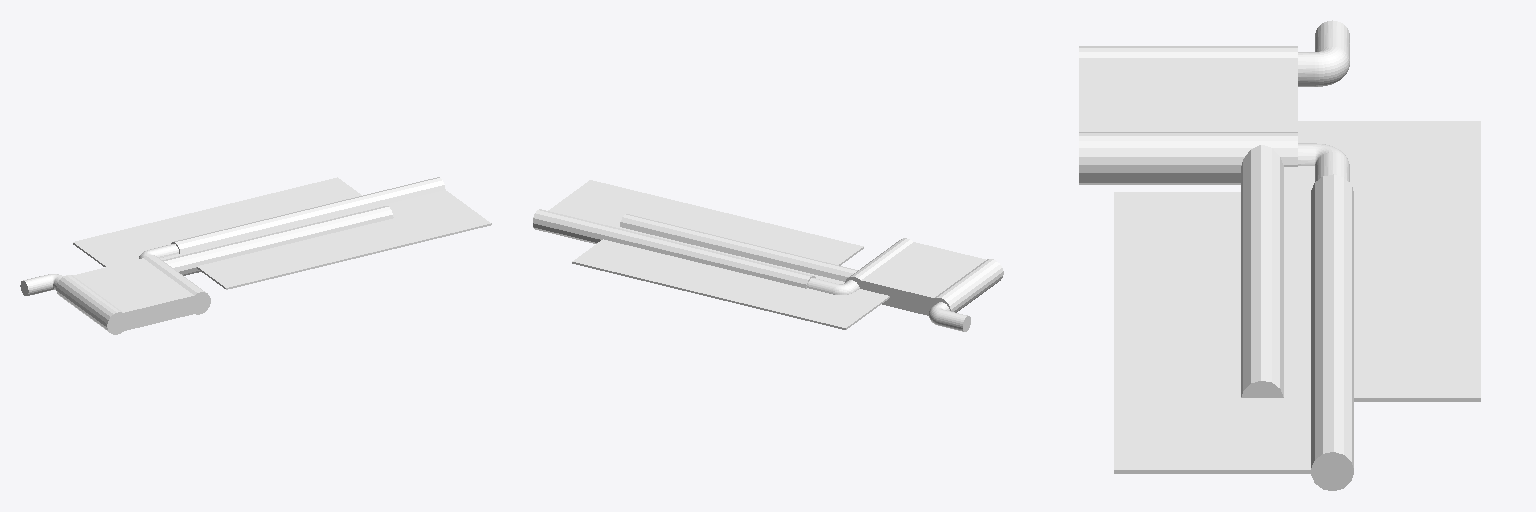
robot.urdf — URDF_Bodies.2:
<?xml version="1.0" encoding="utf-8"?>
<!-- This URDF was automatically created by SolidWorks to URDF Exporter! Originally created by [author] ([email redacted]) 
     Commit Version: 1.6.0-4-g7f85cfe  Build Version: 1.6.7995.38578
     For more information, please see http://wiki.ros.org/sw_urdf_exporter -->
<robot
  name="URDF_Bodies.2">
  <link
    name="base_link">
    <inertial>
      <origin
        xyz="1.28701571668501E-17 -0.125 1.11232366633435E-17"
        rpy="0 0 0" />
      <mass
        value="3.75126000883085" />
      <inertia
        ixx="0.0203613705094794"
        ixy="0"
        ixz="0"
        iyy="0.0270935390886525"
        iyz="1.14587975343948E-18"
        izz="0.0458077936711611" />
    </inertial>
    <visual>
      <origin
        xyz="0 0 0"
        rpy="0 0 0" />
      <geometry>
        <mesh
          filename="package://URDF_Bodies.2/meshes/base_link.STL" />
      </geometry>
      <material
        name="">
        <color
          rgba="1 1 1 1" />
      </material>
    </visual>
    <collision>
      <origin
        xyz="0 0 0"
        rpy="0 0 0" />
      <geometry>
        <mesh
          filename="package://URDF_Bodies.2/meshes/base_link.STL" />
      </geometry>
    </collision>
  </link>
  <link
    name="RW_Flap">
    <inertial>
      <origin
        xyz="0.156057597241795 0.034001458033575 -2.95203009004169E-18"
        rpy="0 0 0" />
      <mass
        value="0.155627268196262" />
      <inertia
        ixx="4.74272194335383E-05"
        ixy="-3.11441094664687E-05"
        ixz="-1.2222922292435E-21"
        iyy="0.000163660400355119"
        iyz="3.14258673086696E-22"
        izz="0.000179962166149405" />
    </inertial>
    <visual>
      <origin
        xyz="0 0 0"
        rpy="0 0 0" />
      <geometry>
        <mesh
          filename="package://URDF_Bodies.2/meshes/RW_Flap.STL" />
      </geometry>
      <material
        name="">
        <color
          rgba="1 1 1 1" />
      </material>
    </visual>
    <collision>
      <origin
        xyz="0 0 0"
        rpy="0 0 0" />
      <geometry>
        <mesh
          filename="package://URDF_Bodies.2/meshes/RW_Flap.STL" />
      </geometry>
    </collision>
  </link>
  <joint
    name="RW_Flap"
    type="revolute">
    <origin
      xyz="0 0 0"
      rpy="0 0 0" />
    <parent
      link="base_link" />
    <child
      link="RW_Flap" />
    <axis
      xyz="0 -1 0" />
    <limit
      lower="0"
      upper="0"
      effort="0"
      velocity="0" />
  </joint>
  <link
    name="RW_Pitch">
    <inertial>
      <origin
        xyz="-1.37117854616102E-18 -0.0100833700983606 0.5669624057783"
        rpy="0 0 0" />
      <mass
        value="2.36285860241809" />
      <inertia
        ixx="0.124968886529001"
        ixy="8.8618054691128E-19"
        ixz="-4.47593547437603E-19"
        iyy="0.110995489616372"
        iyz="6.04666277036323E-18"
        izz="0.0144463821686765" />
    </inertial>
    <visual>
      <origin
        xyz="0 0 0"
        rpy="0 0 0" />
      <geometry>
        <mesh
          filename="package://URDF_Bodies.2/meshes/RW_Pitch.STL" />
      </geometry>
      <material
        name="">
        <color
          rgba="1 1 1 1" />
      </material>
    </visual>
    <collision>
      <origin
        xyz="0 0 0"
        rpy="0 0 0" />
      <geometry>
        <mesh
          filename="package://URDF_Bodies.2/meshes/RW_Pitch.STL" />
      </geometry>
    </collision>
  </link>
  <joint
    name="RW_Pitch"
    type="revolute">
    <origin
      xyz="0.021329 0 0"
      rpy="0 1.5708 0" />
    <parent
      link="RW_Flap" />
    <child
      link="RW_Pitch" />
    <axis
      xyz="0 0 -1" />
    <limit
      lower="0"
      upper="0"
      effort="0"
      velocity="0" />
  </joint>
  <link
    name="LW_Flap">
    <inertial>
      <origin
        xyz="0.156057597241795 0.034001458033575 2.0322722579128E-17"
        rpy="0 0 0" />
      <mass
        value="0.155627268196262" />
      <inertia
        ixx="4.74272194335383E-05"
        ixy="-3.11441094664687E-05"
        ixz="-2.12665334480973E-20"
        iyy="0.000163660400355119"
        iyz="-5.49599335761171E-21"
        izz="0.000179962166149405" />
    </inertial>
    <visual>
      <origin
        xyz="0 0 0"
        rpy="0 0 0" />
      <geometry>
        <mesh
          filename="package://URDF_Bodies.2/meshes/LW_Flap.STL" />
      </geometry>
      <material
        name="">
        <color
          rgba="1 1 1 1" />
      </material>
    </visual>
    <collision>
      <origin
        xyz="0 0 0"
        rpy="0 0 0" />
      <geometry>
        <mesh
          filename="package://URDF_Bodies.2/meshes/LW_Flap.STL" />
      </geometry>
    </collision>
  </link>
  <joint
    name="LW_Flap"
    type="revolute">
    <origin
      xyz="0 0 0"
      rpy="3.1416 0 3.1416" />
    <parent
      link="base_link" />
    <child
      link="LW_Flap" />
    <axis
      xyz="0 -1 0" />
    <limit
      lower="0"
      upper="0"
      effort="0"
      velocity="0" />
  </joint>
  <link
    name="LW_Pitch">
    <inertial>
      <origin
        xyz="-1.37117854616102E-18 -0.0100833700983606 -0.4919624057783"
        rpy="0 0 0" />
      <mass
        value="2.36285860241809" />
      <inertia
        ixx="0.124968886529001"
        ixy="8.8618054691128E-19"
        ixz="-4.47593547437603E-19"
        iyy="0.110995489616372"
        iyz="5.77249514599596E-18"
        izz="0.0144463821686765" />
    </inertial>
    <visual>
      <origin
        xyz="0 0 0"
        rpy="0 0 0" />
      <geometry>
        <mesh
          filename="package://URDF_Bodies.2/meshes/LW_Pitch.STL" />
      </geometry>
      <material
        name="">
        <color
          rgba="1 1 1 1" />
      </material>
    </visual>
    <collision>
      <origin
        xyz="0 0 0"
        rpy="0 0 0" />
      <geometry>
        <mesh
          filename="package://URDF_Bodies.2/meshes/LW_Pitch.STL" />
      </geometry>
    </collision>
  </link>
  <joint
    name="LW_Pitch"
    type="revolute">
    <origin
      xyz="0.0963291561975888 0 0"
      rpy="3.14159265358979 -1.5707963267949 0" />
    <parent
      link="LW_Flap" />
    <child
      link="LW_Pitch" />
    <axis
      xyz="0 0 1" />
    <limit
      lower="0"
      upper="0"
      effort="0"
      velocity="0" />
  </joint>
</robot>

--- Render facts (derived) ---
Views: 3 orthographic renders of the robot side by side, from view 1: azimuth 30°, elevation 25°; view 2: azimuth 150°, elevation 25°; view 3: azimuth 270°, elevation 25°.
Robot: URDF_Bodies.2 — 5 links, 4 joints (4 revolute); root link base_link; default pose: all joints at 0.
Visible links, largest first — view 1: RW_Pitch, LW_Pitch, base_link, LW_Flap; view 2: LW_Pitch, RW_Pitch, base_link, LW_Flap, RW_Flap; view 3: RW_Pitch, LW_Pitch, base_link, LW_Flap, RW_Flap.
Link boxes in pixels (bbox=[...]): RW_Pitch: bbox=[171, 177, 491, 289]; LW_Pitch: bbox=[73, 177, 393, 275]; base_link: bbox=[56, 255, 210, 334]; LW_Flap: bbox=[20, 274, 63, 295]; LW_Pitch: bbox=[572, 214, 889, 329]; RW_Pitch: bbox=[533, 180, 863, 288]; base_link: bbox=[845, 238, 1003, 315]; LW_Flap: bbox=[929, 302, 970, 331]; RW_Flap: bbox=[807, 278, 859, 294]; RW_Pitch: bbox=[1114, 174, 1353, 490]; LW_Pitch: bbox=[1241, 121, 1480, 401]; base_link: bbox=[1079, 46, 1297, 184]; LW_Flap: bbox=[1298, 20, 1349, 86]; RW_Flap: bbox=[1298, 143, 1349, 181].
Size in the robot's own frame: 1.18 by 0.46 by 0.0598 metres.
5 mesh visuals loaded from 5 distinct referenced files (5 binary STL).